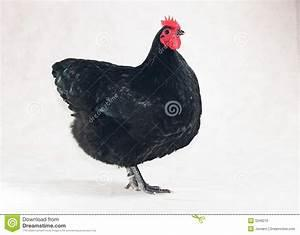hen: (50, 15, 202, 195)
